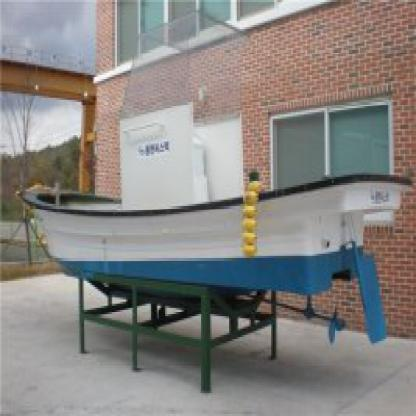fish-b: (8, 173, 414, 310)
